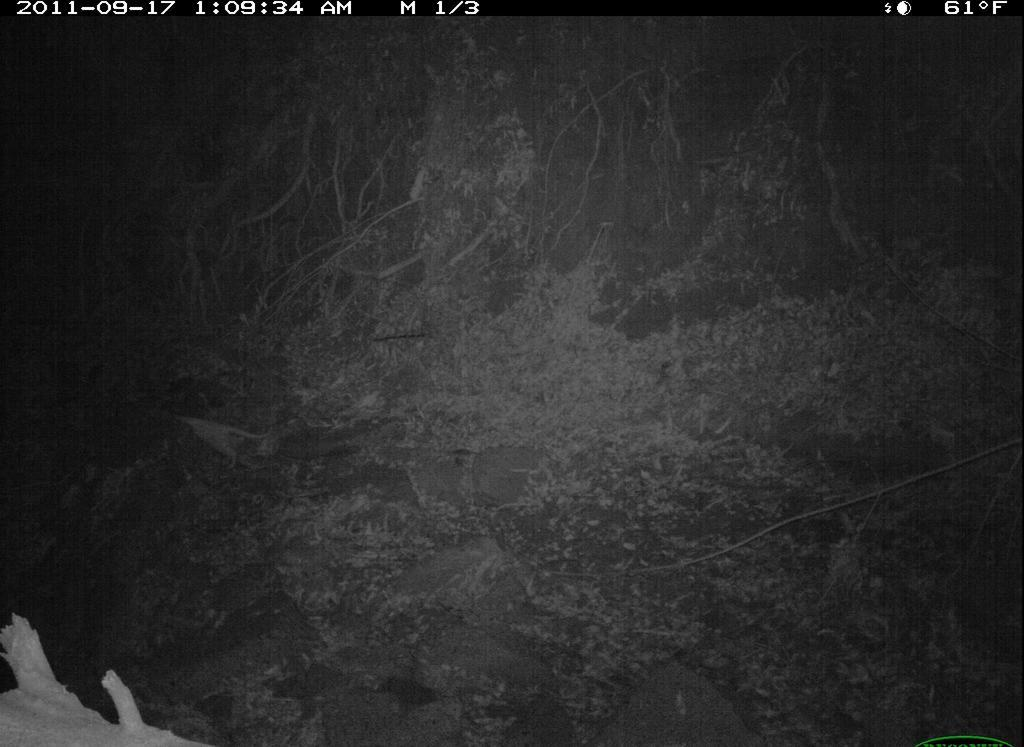cat: (162, 408, 283, 477)
